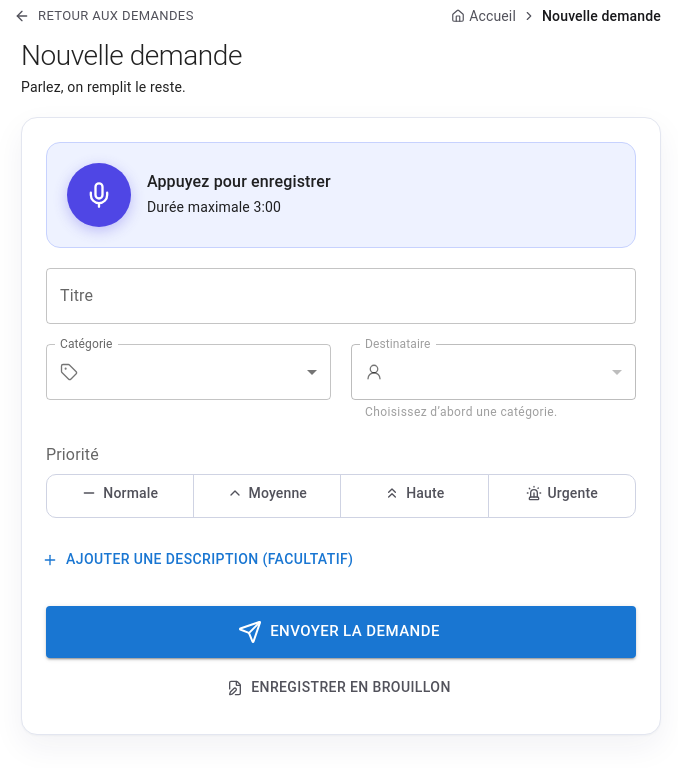
it: Formulaire de demande selon le mode de routage › via l’administration : pas de destinataire à choisir
The width and height of the screenshot is (678, 768).
Expected: the heading "Nouvelle demande" is shown, [21,39,242,72]
Step 1. Click the 1st dropdown named "Catégorie" → (208, 372), box [86,344,331,400]
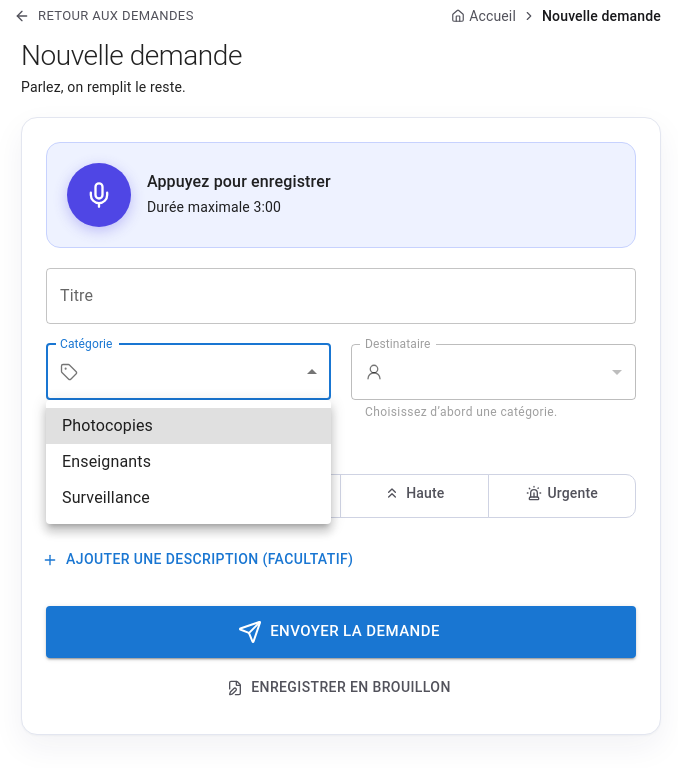
Step 2. Click the option "Surveillance" → (106, 498), box [62,488,150,507]
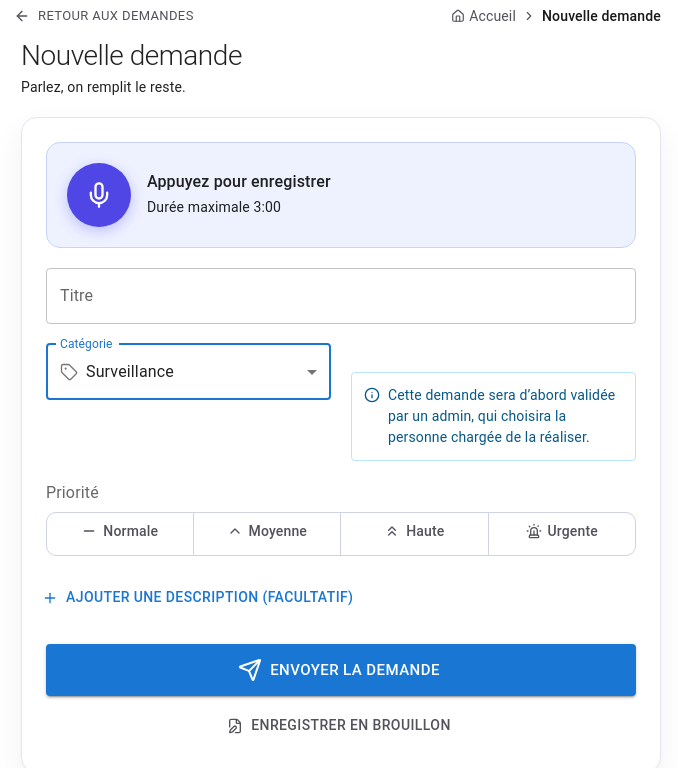
Result: the text "Destinataire" is gone
Result: the text "validée par un admin" is shown at [388,387,615,445]
